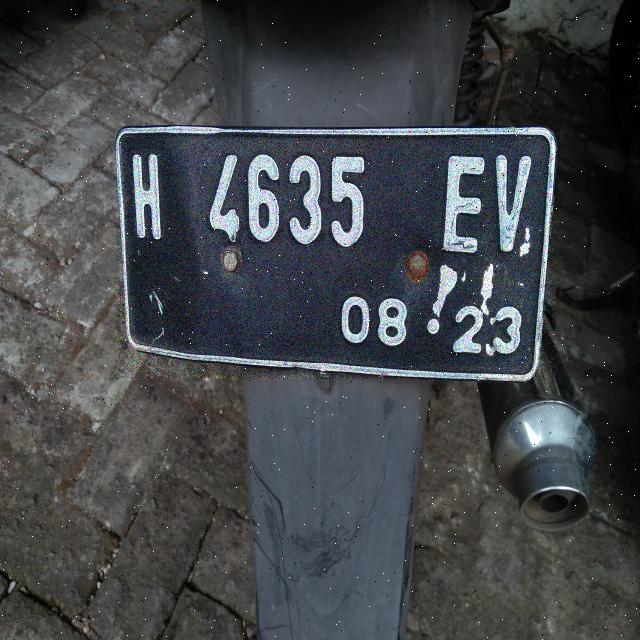plate: (117, 128, 555, 379)
